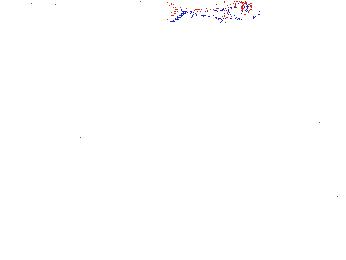red belly glassfish: (190, 1, 253, 20)
redtail glassfish: (166, 1, 263, 25)
